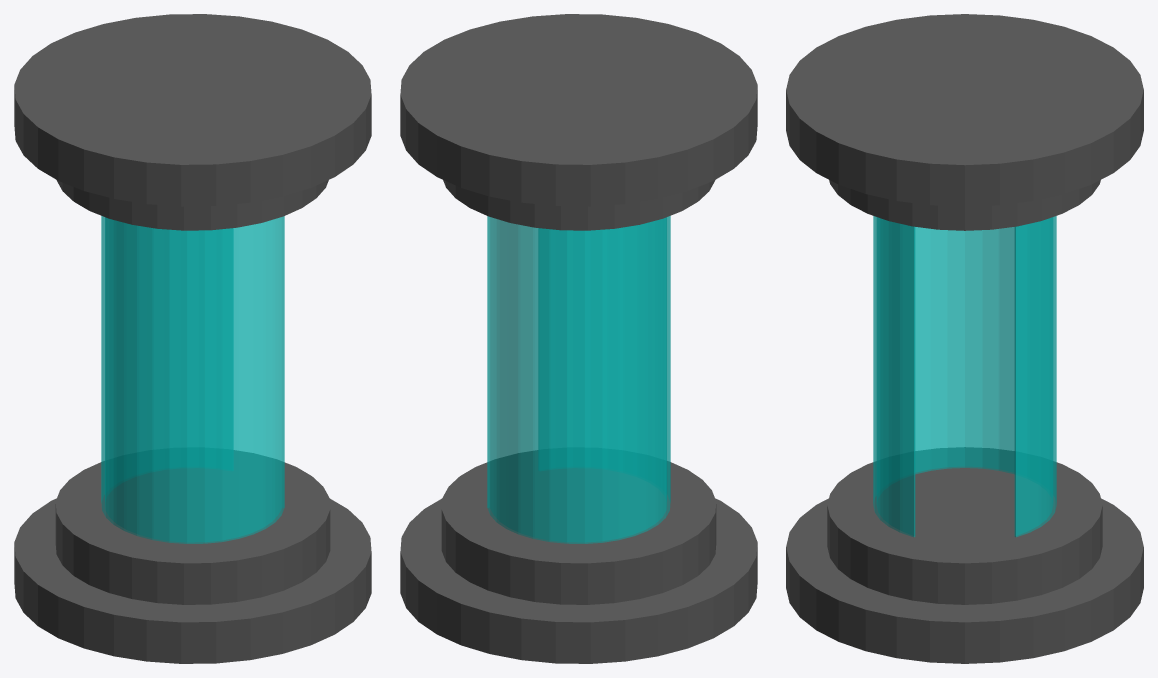
Rendered from Robot machine.fbx.
3 renders of one model, left to right at view 1: azimuth 30°, elevation 25°; view 2: azimuth 150°, elevation 25°; view 3: azimuth 270°, elevation 25°, orthographic.
Visible parts, largest first — view 1: Cylinder; view 2: Cylinder; view 3: Cylinder.
Boxes of the visible parts, x1,y1,x2,y2 form: Cylinder: [14, 14, 371, 663]; Cylinder: [400, 14, 757, 663]; Cylinder: [786, 14, 1143, 663].
Size of the model in its own units: 3.9 by 6 by 3.9.
